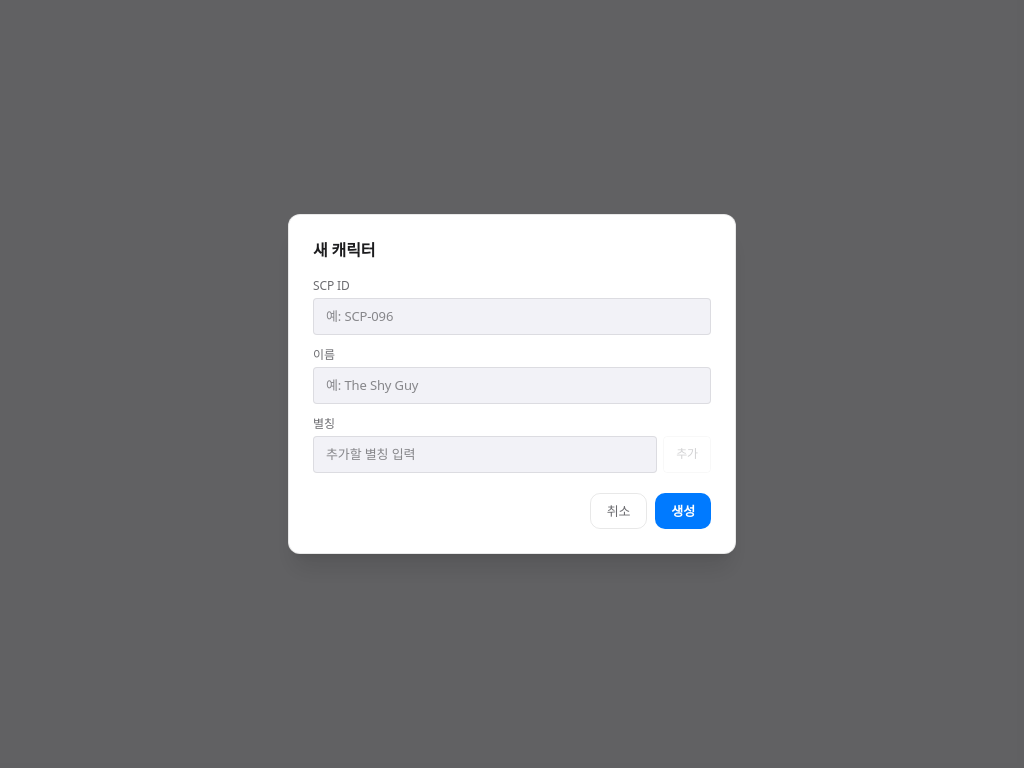
CharacterFormDialog › validates empty SCP ID
Click the button "생성" at coordinates (683, 511), box [655,493,711,529]
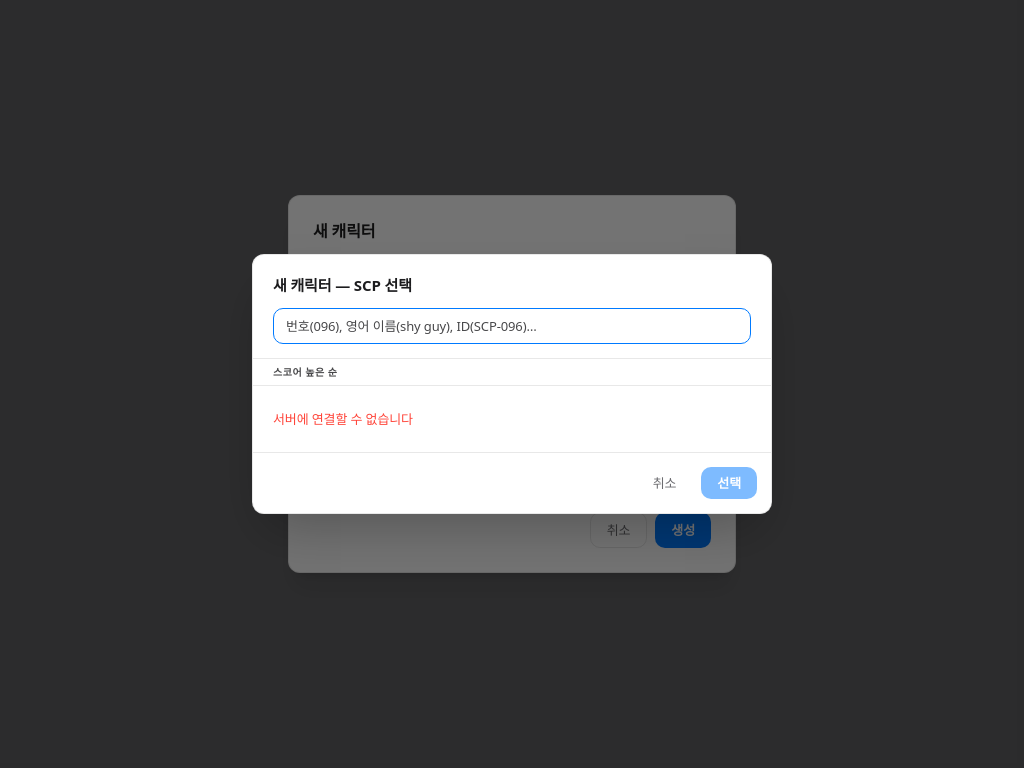
Now the text "SCP ID는 필수입니다" is shown, box [313,319,409,334]
